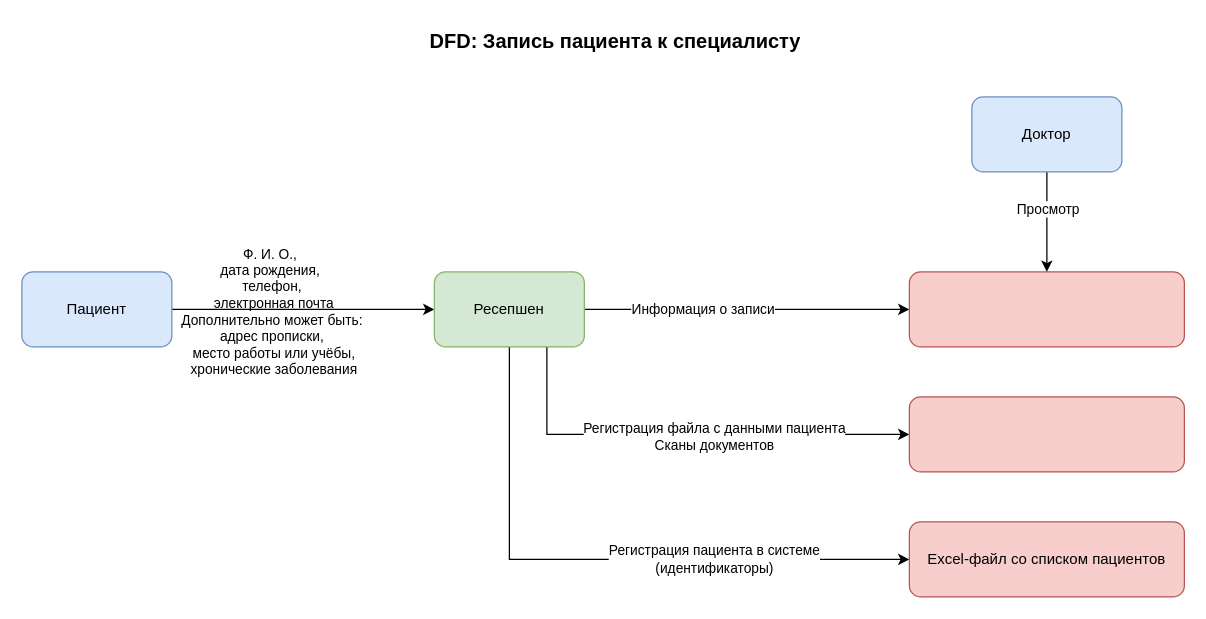
Some shapes in this 1206 by 619 pixel diagram are drawn without their labels. The centre of each missing label's shape, as x and y in pixels:
"Excel-файл: журнал, где регистрируют запись пациентов к одному специалисту" goes at pixel 1046 309.
"Папка с файлами пациента в разных форматах" goes at pixel 1046 434.
